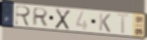4: (75, 10, 89, 32)
K: (98, 12, 112, 34)
R: (14, 4, 32, 27), (31, 7, 50, 27)
T: (116, 12, 132, 35)
X: (54, 7, 72, 31)
